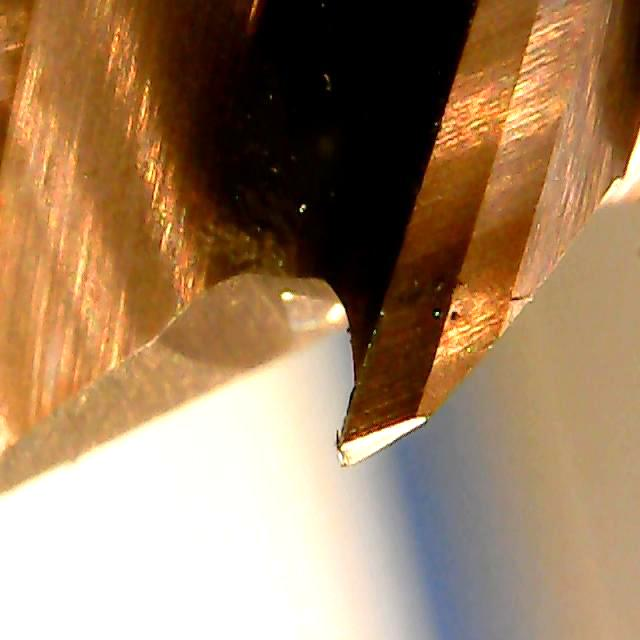Tool-wear-class-1: (289, 266, 477, 478)
